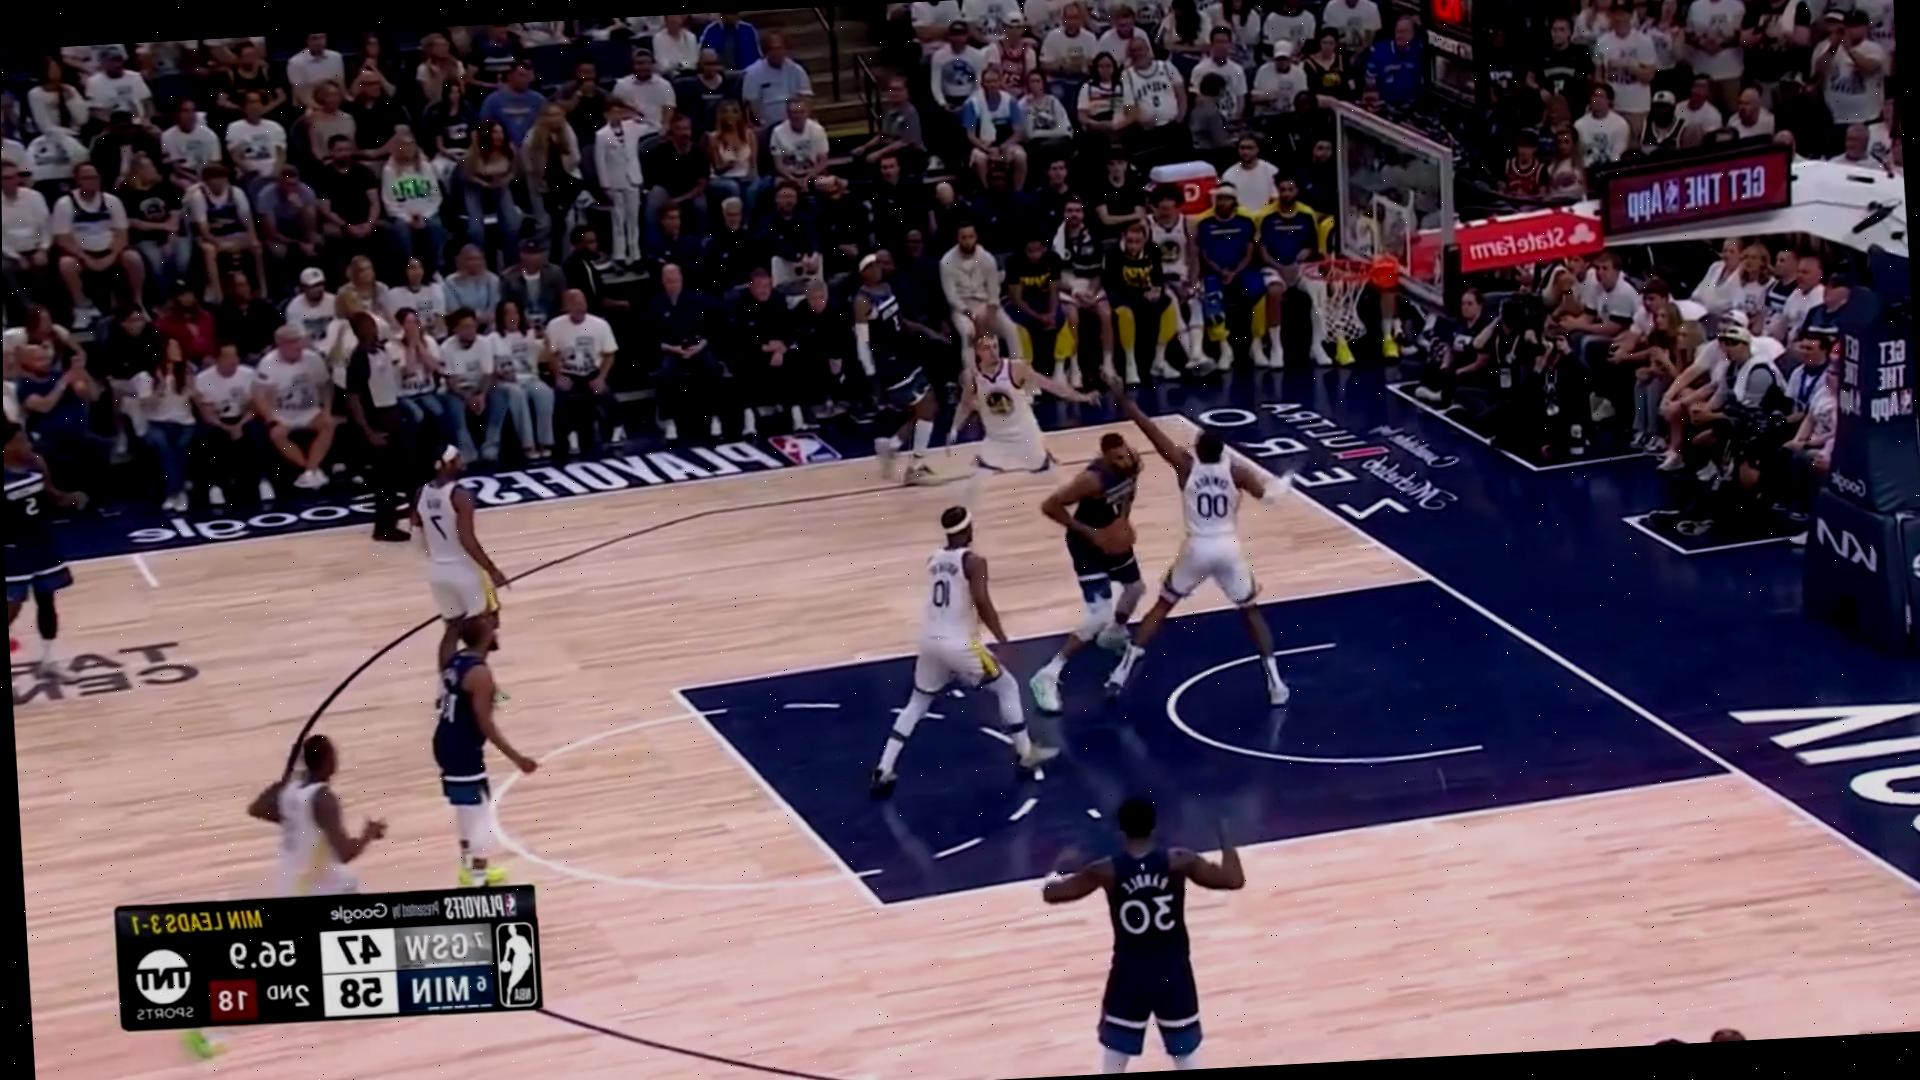no_foul: (1025, 417, 1276, 704)
